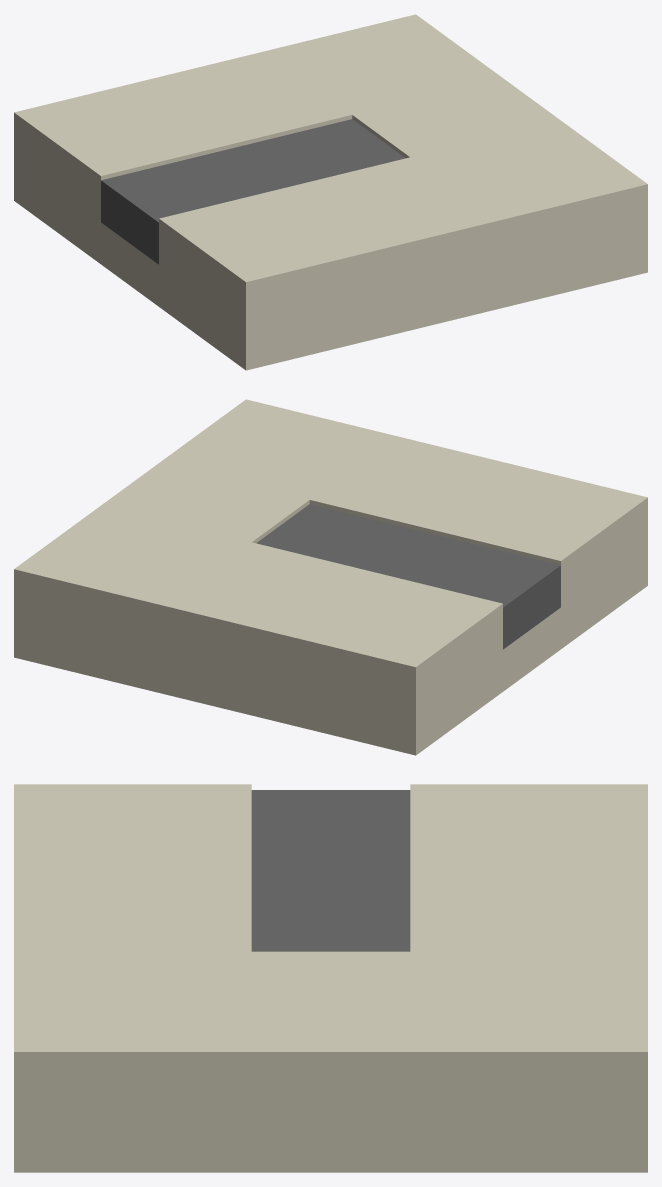
File: tile008.fbx
The picture shows the model from 3 angles, top to bottom: view 1: azimuth 30°, elevation 25°; view 2: azimuth 150°, elevation 25°; view 3: azimuth 270°, elevation 25°; orthographic projection. The views are drawn at different scales.
Parts seen in each view (by area): view 1: tile008; view 2: tile008; view 3: tile008.
Boxes of the visible parts, x1,y1,x2,y2 form: tile008: [14, 14, 647, 370]; tile008: [14, 399, 647, 755]; tile008: [14, 784, 647, 1172].
Size of the model in its own units: 10 by 2.1 by 10.
